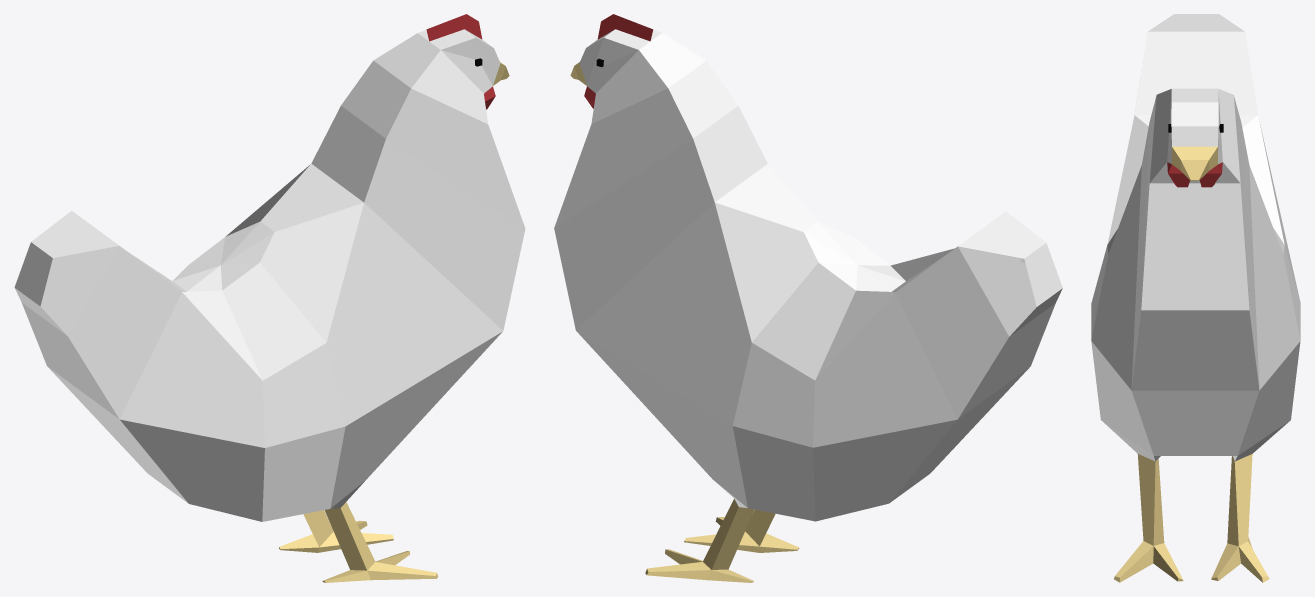
File: chicken.glb
3 renders of one model, left to right at view 1: azimuth 30°, elevation 25°; view 2: azimuth 150°, elevation 25°; view 3: azimuth 270°, elevation 25°, orthographic.
Parts seen in each view (by area): view 1: Object_2; view 2: Object_2; view 3: Object_2.
Part boxes in pixels (bbox=[...]): Object_2: bbox=[14, 14, 525, 582]; Object_2: bbox=[554, 14, 1062, 582]; Object_2: bbox=[1091, 14, 1300, 582].
Bounding box in the file's own units: 0.3636 × 0.3777 × 0.1358.
1 material, 1 textured.
